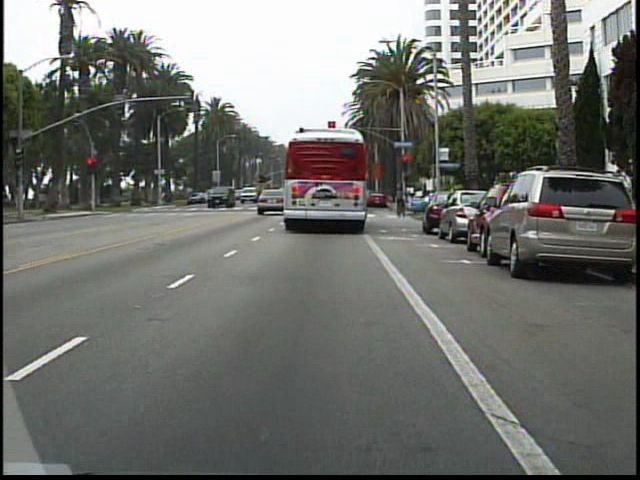person: (390, 184, 409, 217)
